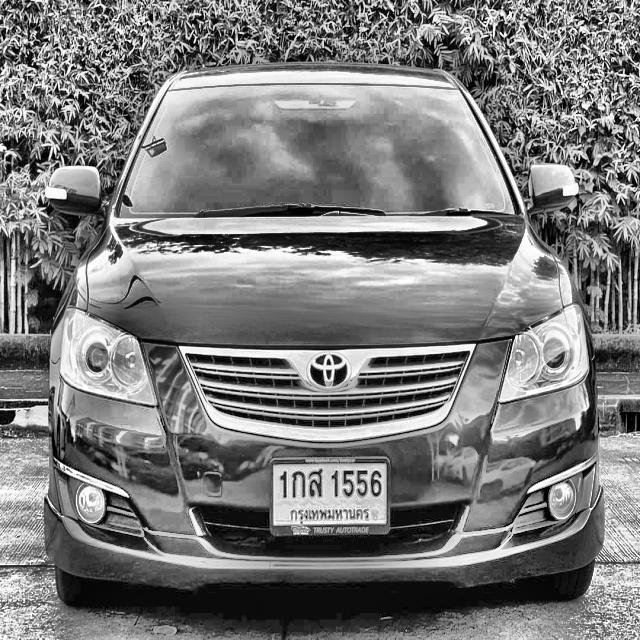license-plate: (269, 454, 392, 540)
